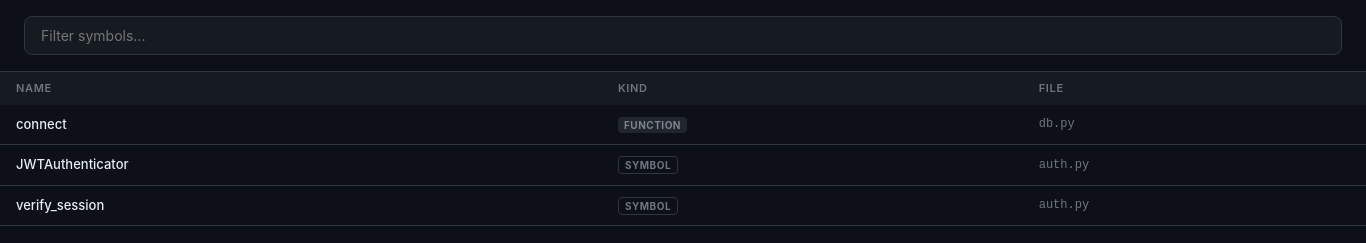
Test: SymbolsTab — symbol shape tolerance + search filter › shows the empty-match message when the search matches nothing
This screenshot has width=1366, height=243.
Type "zzz-nonexistent" into the field labelled "Filter symbols" at (683, 36), box x1=24 y1=16 x2=1342 y2=55
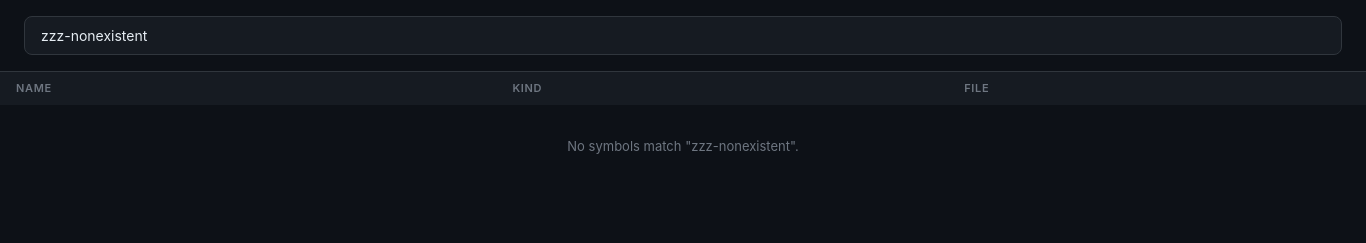
Expected: the text "No symbols match \"zzz-nonexistent\"." is shown, x1=0 y1=104 x2=1365 y2=188
